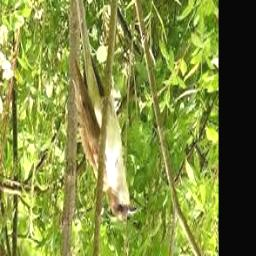Cuckoo: (72, 0, 138, 222)
